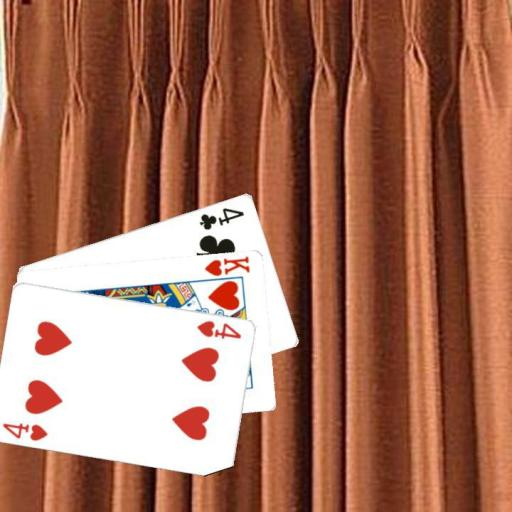4C: (196, 204, 246, 231)
4H: (194, 316, 243, 340), (0, 419, 50, 442)
KH: (202, 253, 251, 278)
